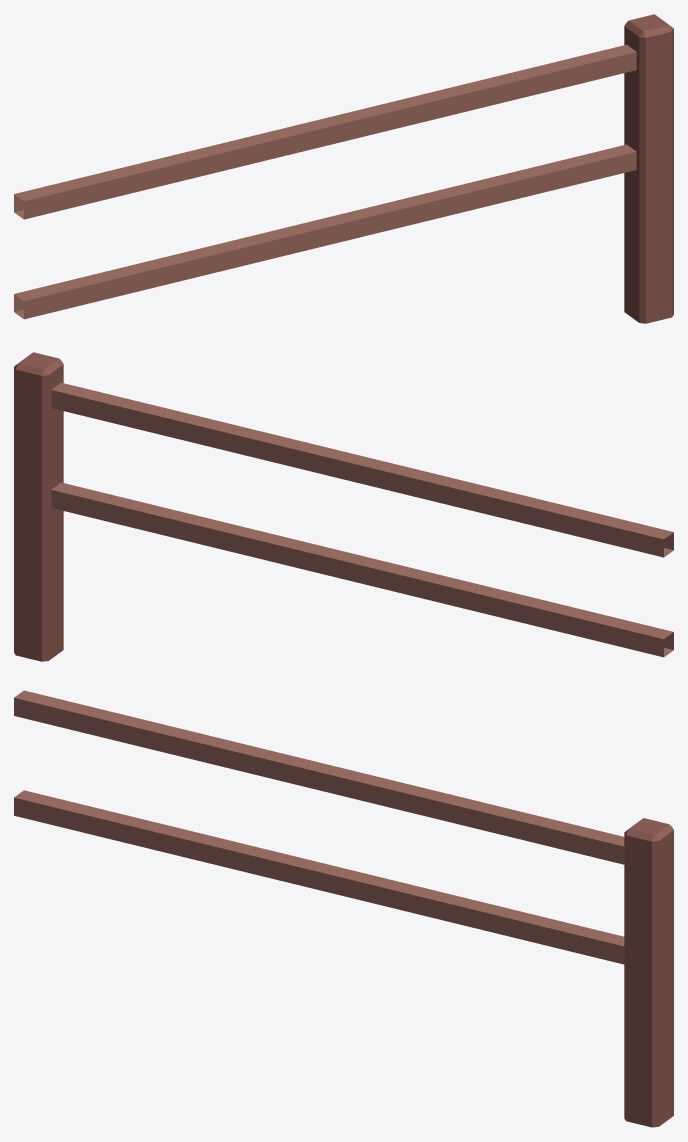
The model's file is Railing_Long.fbx.
3 views of the same model, one above another, from view 1: azimuth 30°, elevation 25°; view 2: azimuth 150°, elevation 25°; view 3: azimuth 330°, elevation 25° (orthographic).
Parts seen in each view (by area): view 1: Railing_Medium; view 2: Railing_Medium; view 3: Railing_Medium.
Part boxes in pixels (x1=…): Railing_Medium: x1=14, y1=14, x2=673, y2=323; Railing_Medium: x1=14, y1=352, x2=673, y2=661; Railing_Medium: x1=14, y1=690, x2=673, y2=1127.
Bounding box in the file's own units: 2.24 × 0.12 × 0.96.
